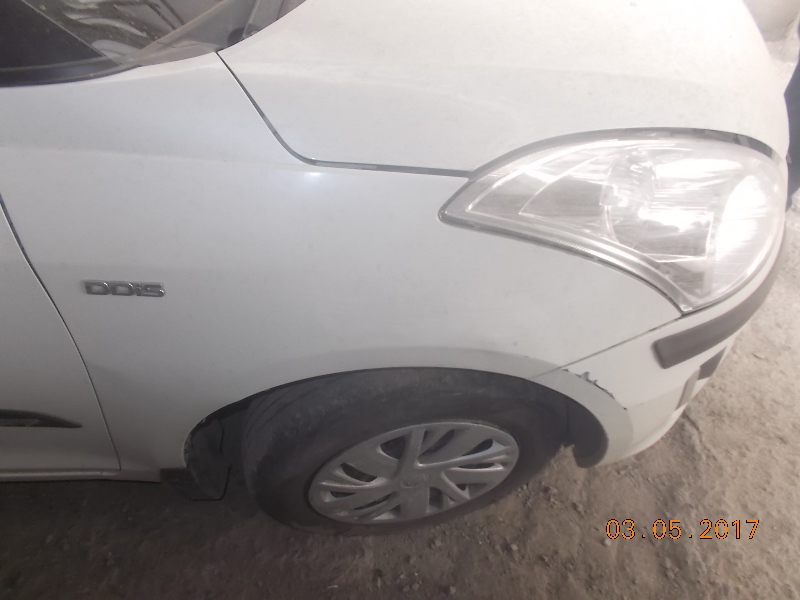Scratch_or_spot: (575, 367, 619, 402)
